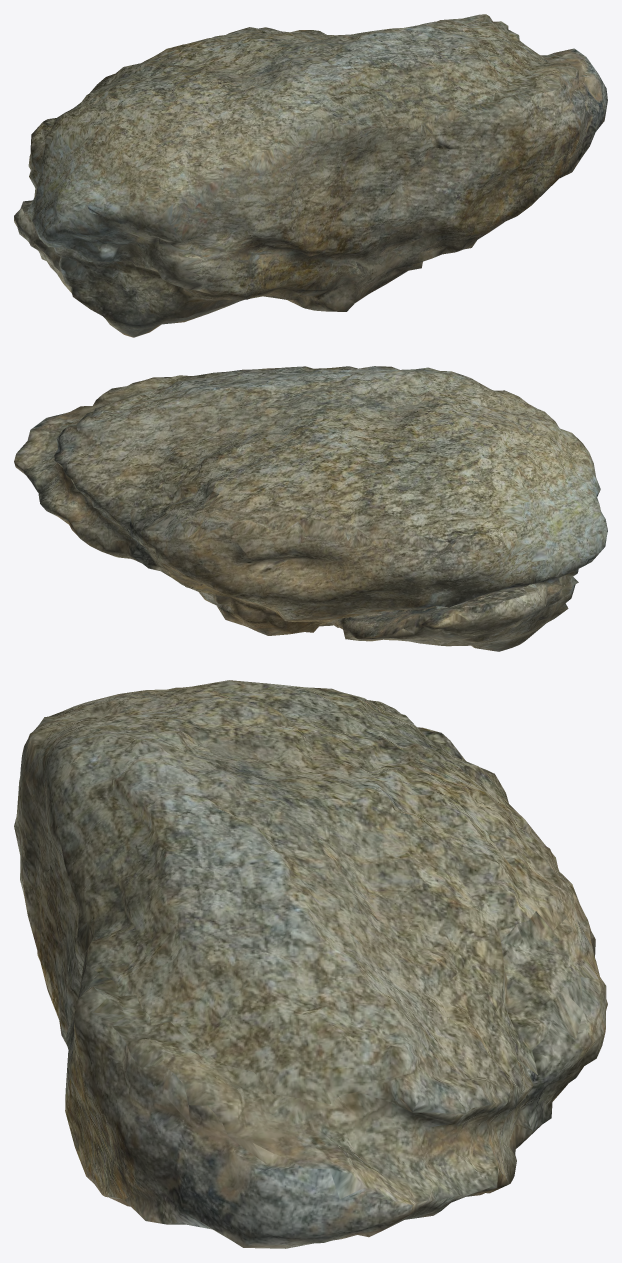
Rendered from namaqualand_boulder_05.glb.
The picture shows the model from 3 angles, top to bottom: view 1: azimuth 30°, elevation 25°; view 2: azimuth 150°, elevation 25°; view 3: azimuth 270°, elevation 25°; orthographic projection. The views are drawn at different scales.
Visible parts, largest first — view 1: namaqualand_boulder_05; view 2: namaqualand_boulder_05; view 3: namaqualand_boulder_05.
Part boxes in pixels (<box>): namaqualand_boulder_05: <box>14,14,607,337</box>; namaqualand_boulder_05: <box>14,366,607,651</box>; namaqualand_boulder_05: <box>14,680,607,1248</box>.
Bounding box in the file's own units: 1.36 × 0.5365 × 0.7455.
Materials: 1 (1 with a texture image).
